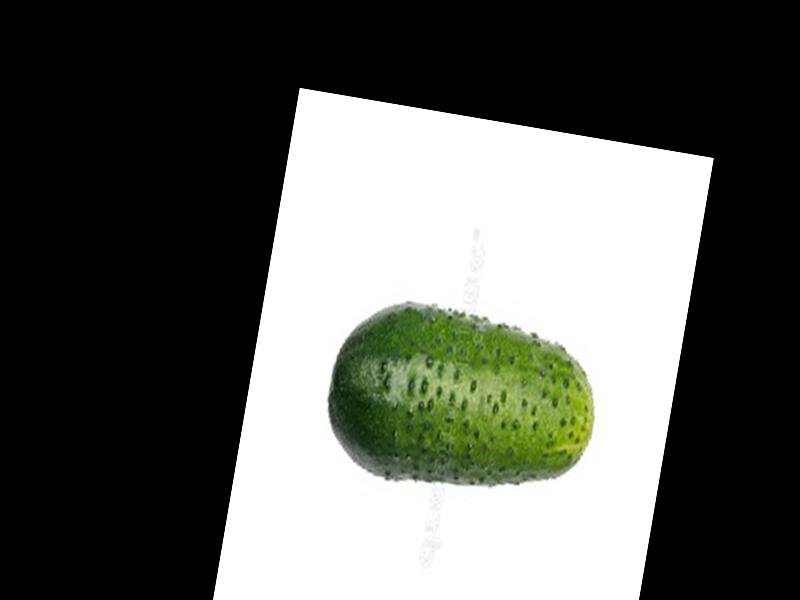Cucumber: (315, 288, 610, 512)
